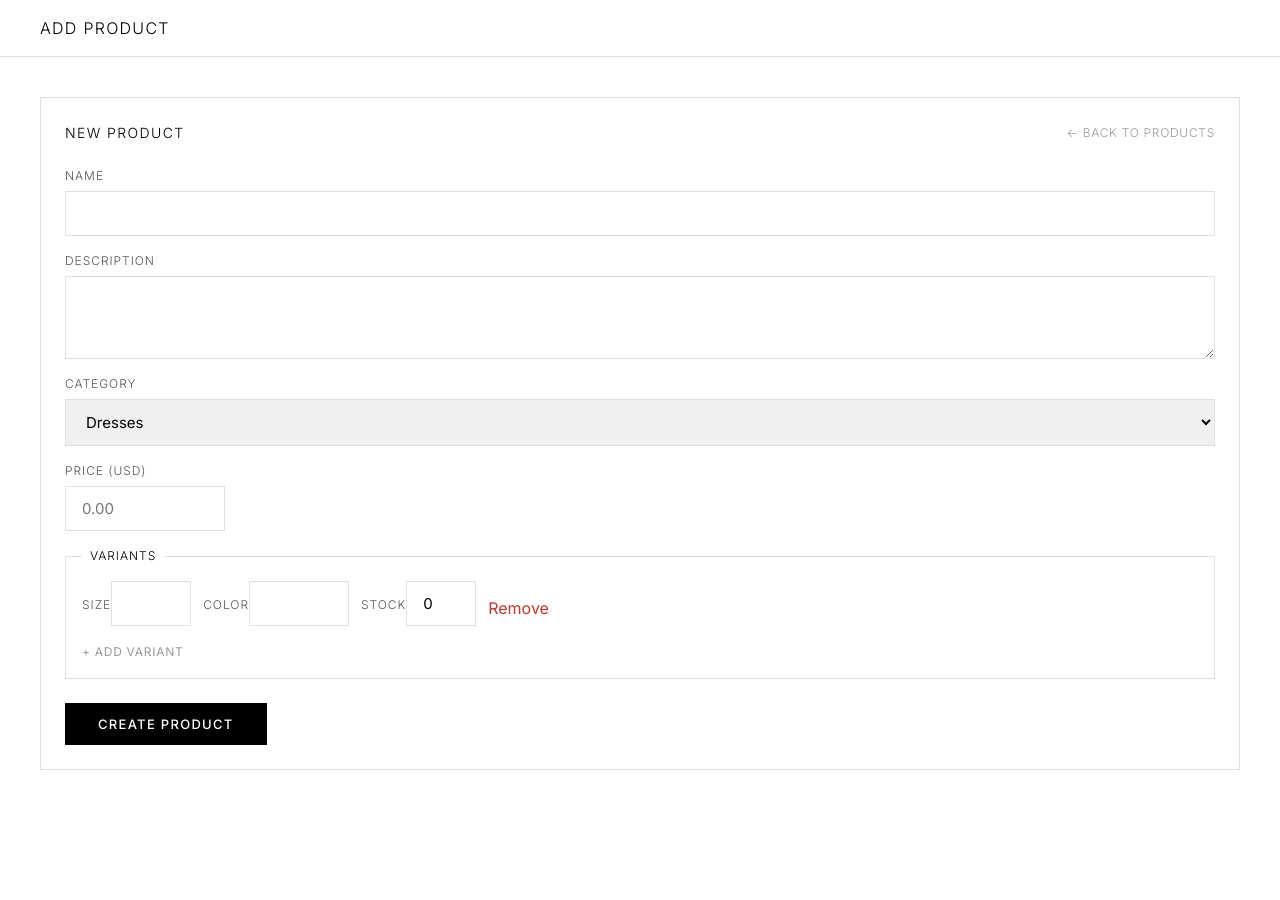
Test: AdminProductForm › create mode › shows price-required error when price is zero
Type "Test Dress" into the field labelled "Name" at (640, 214), box [65,191,1215,236]
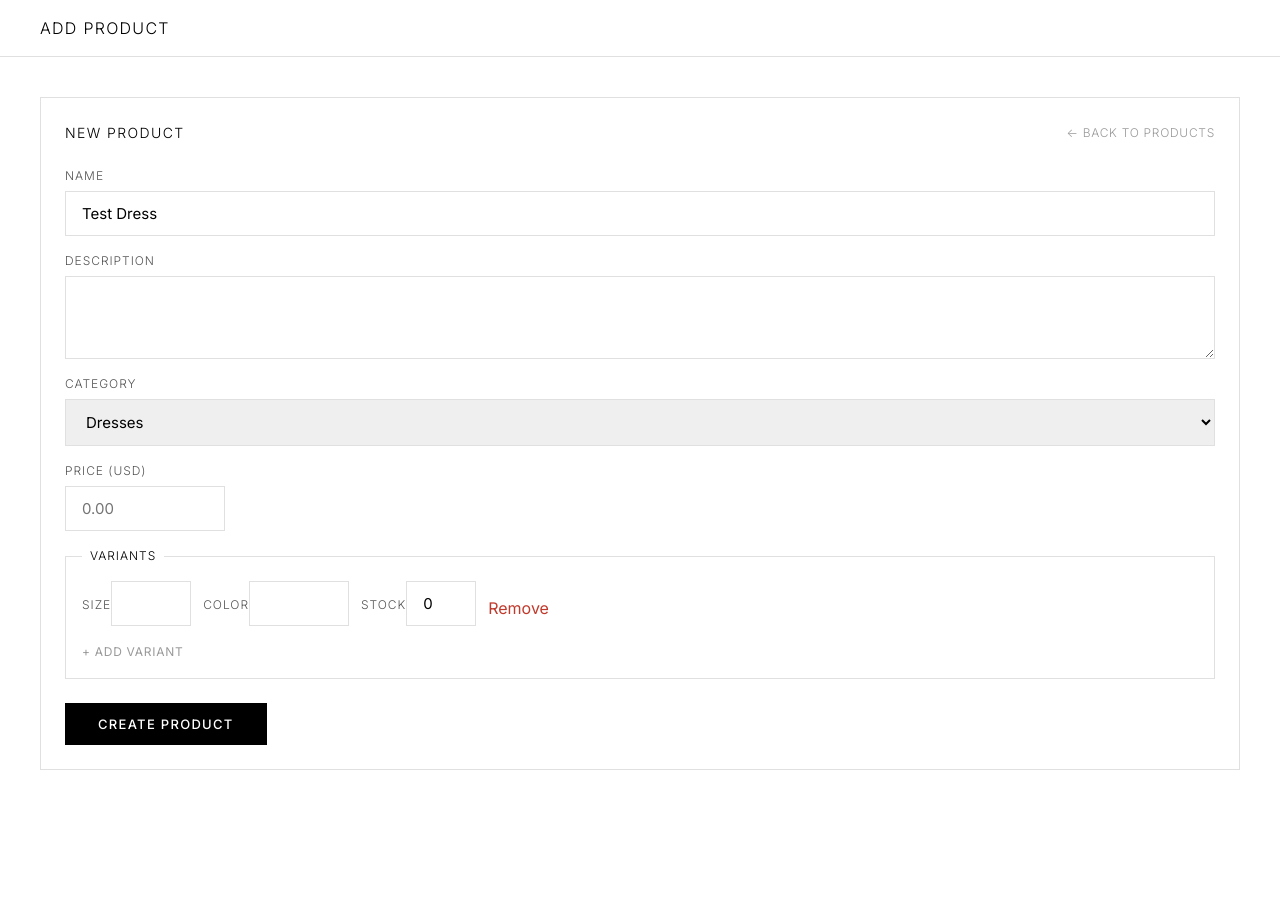
Type "0" into the number field labelled "Price (USD)" at (145, 508), box [65,486,225,531]
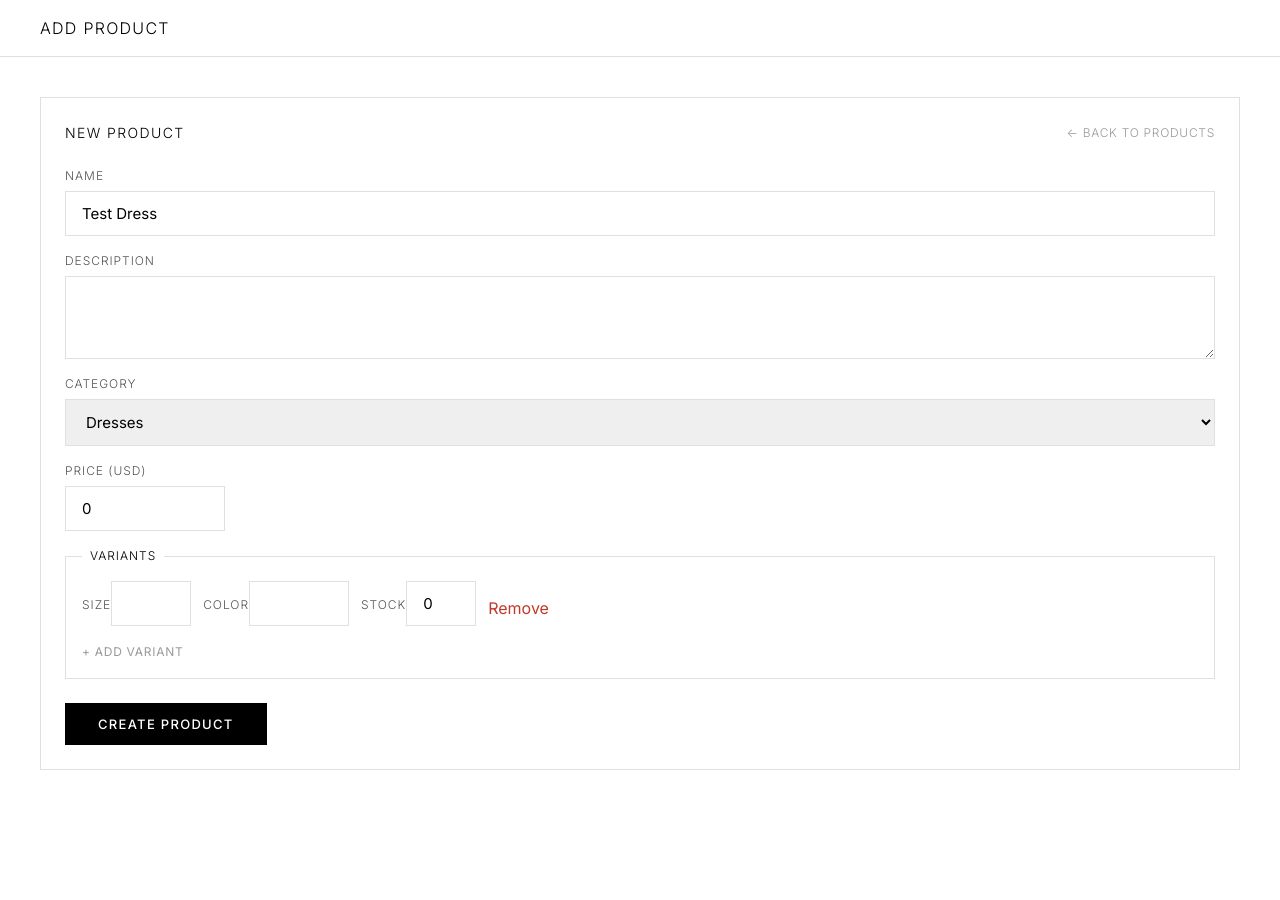
Fill variant to avoid that error
Type "S" into the field labelled "Size" at (151, 604), box [111,581,191,626]
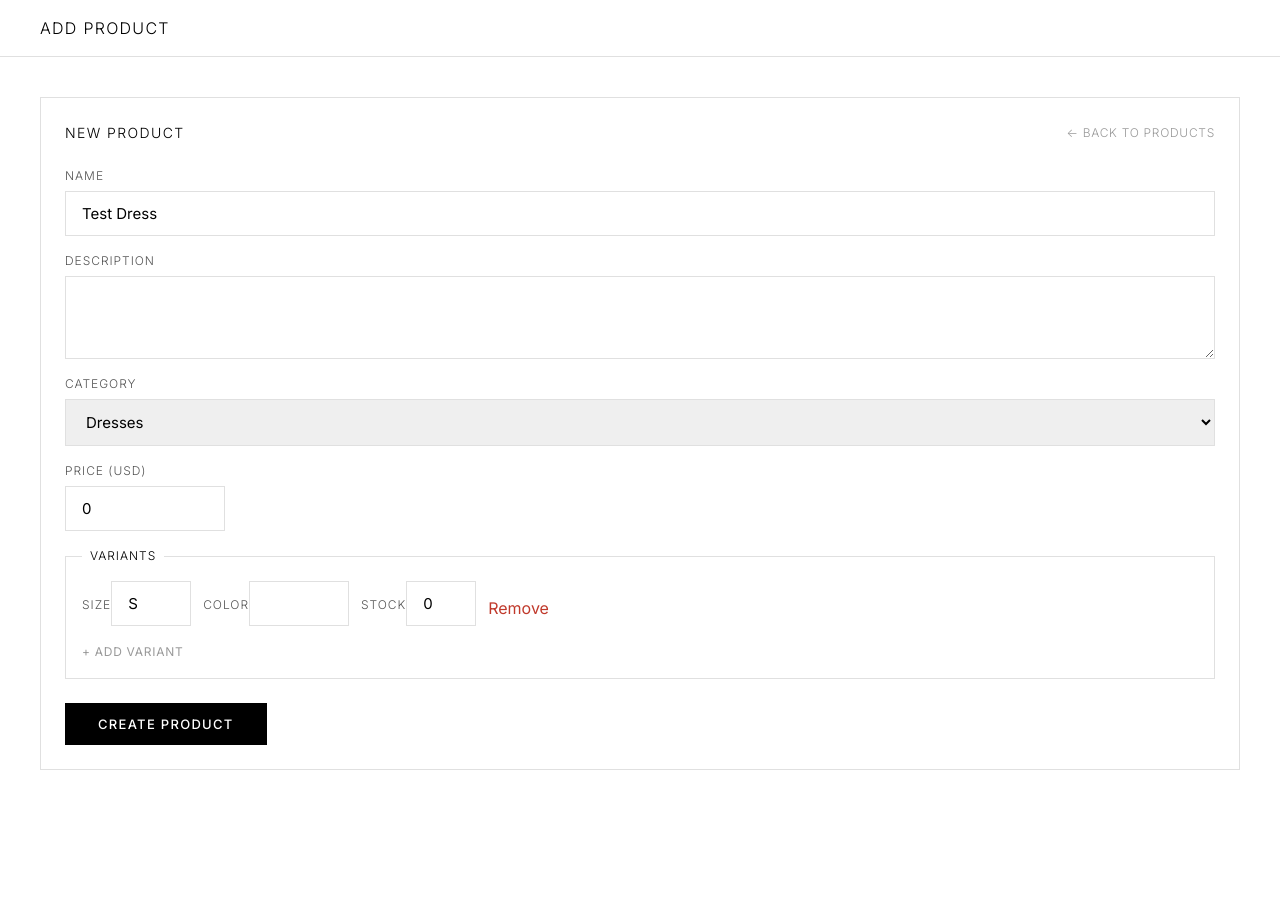
Type "Black" into the field labelled "Color" at (299, 604), box [249,581,349,626]
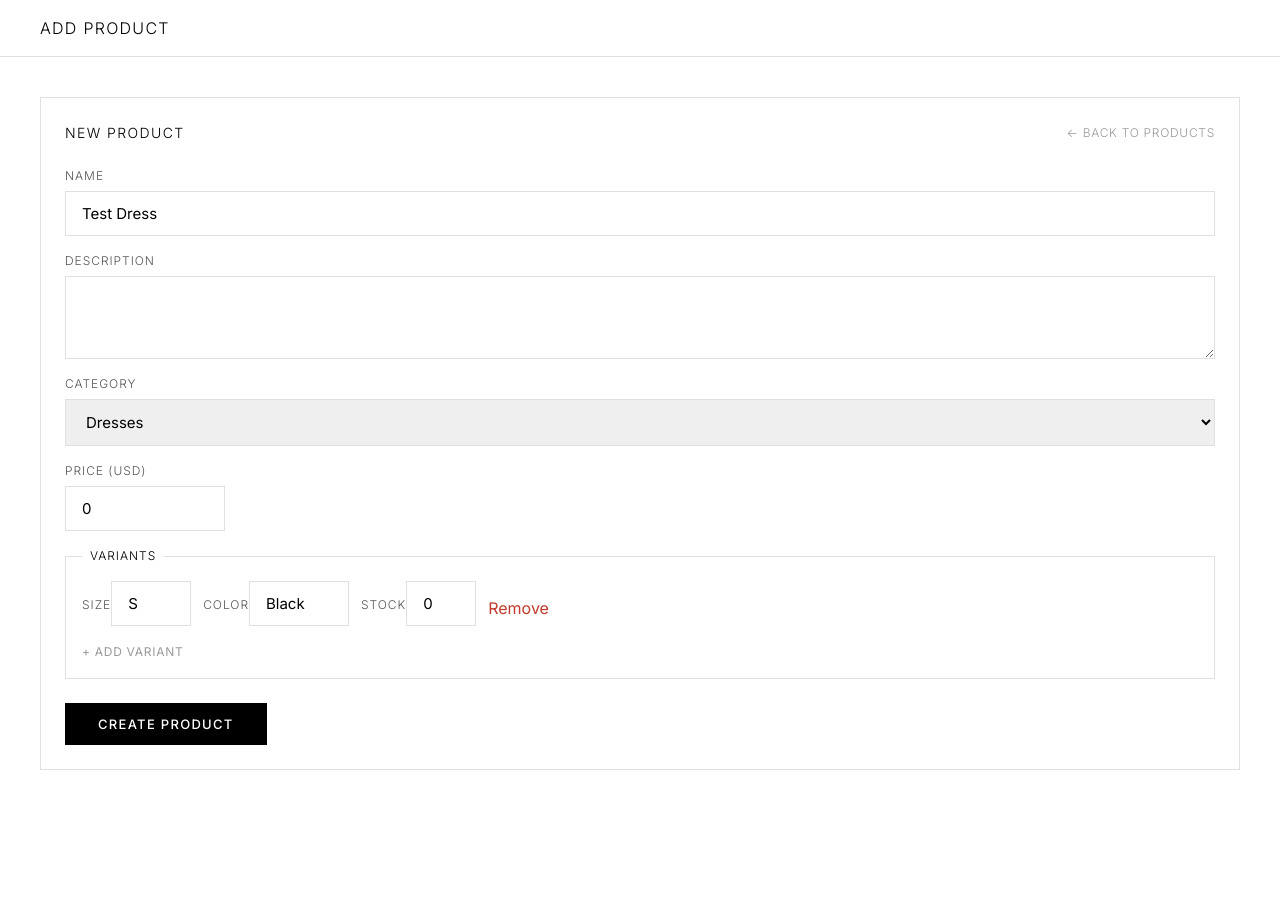
Click the button "Create Product" at (166, 724), box [65,703,267,745]
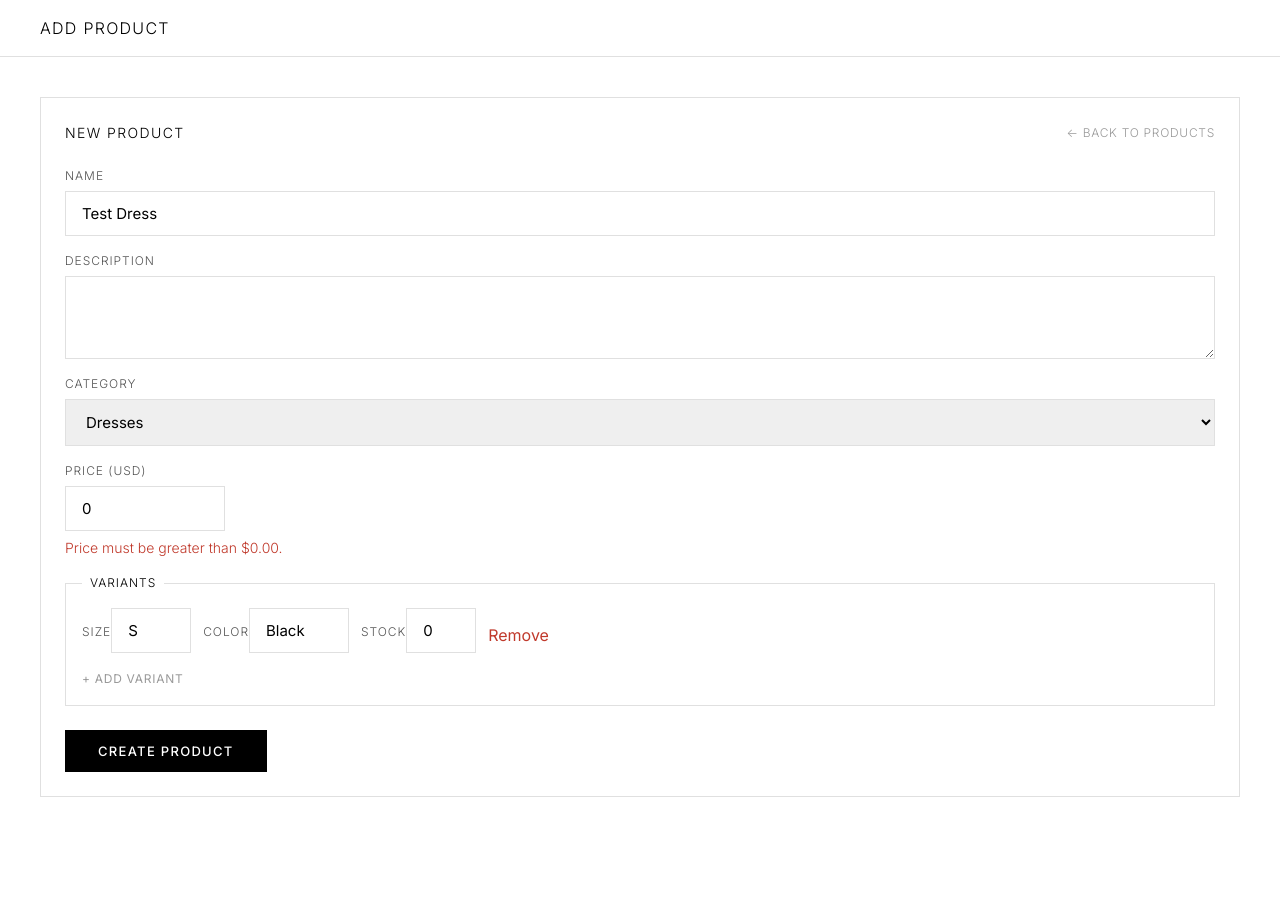
Now the message shows "Price must be greater than", box [65,539,283,556]
